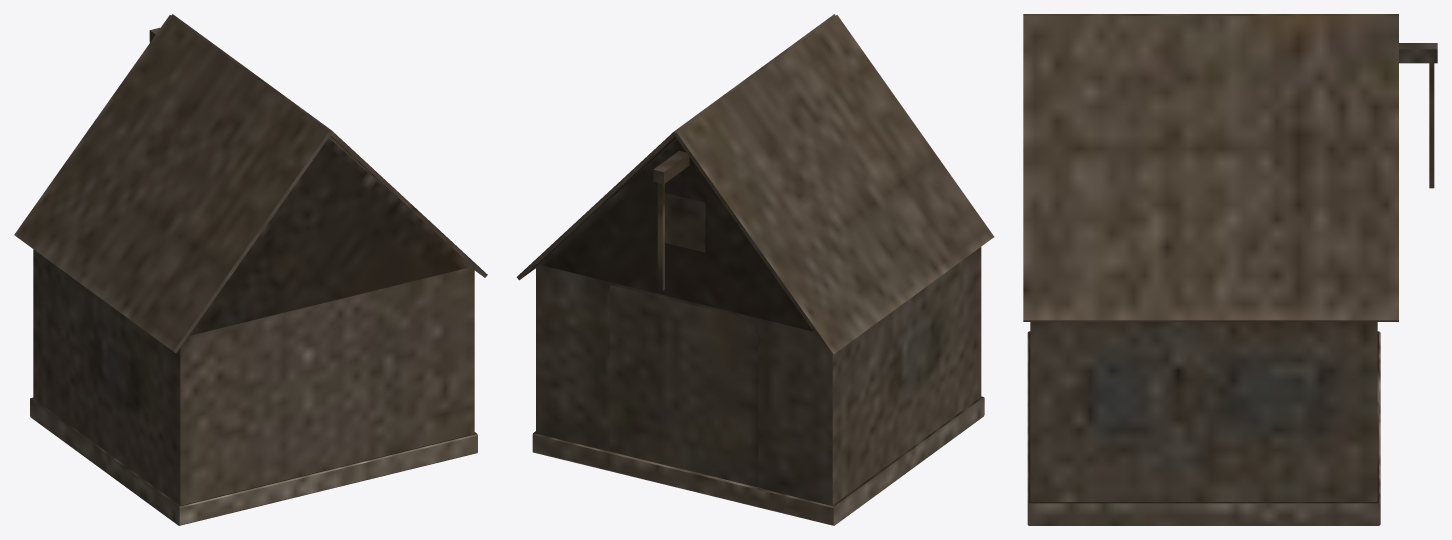
File: b_storehouse_xfar.glb
The picture shows the model from 3 angles, left to right: view 1: azimuth 30°, elevation 25°; view 2: azimuth 150°, elevation 25°; view 3: azimuth 270°, elevation 25°; orthographic projection. The views are drawn at different scales.
Visible parts, largest first — view 1: b_storehouse_xfar; view 2: b_storehouse_xfar; view 3: b_storehouse_xfar.
Part boxes in pixels (bbox=[...]): b_storehouse_xfar: bbox=[14, 14, 487, 525]; b_storehouse_xfar: bbox=[516, 14, 994, 525]; b_storehouse_xfar: bbox=[1023, 14, 1437, 525].
Size of the model in its own units: 5.99 by 6.55 by 5.79.
Materials: 1 (1 with a texture image).
